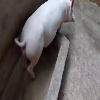heo: (14, 1, 77, 79)
